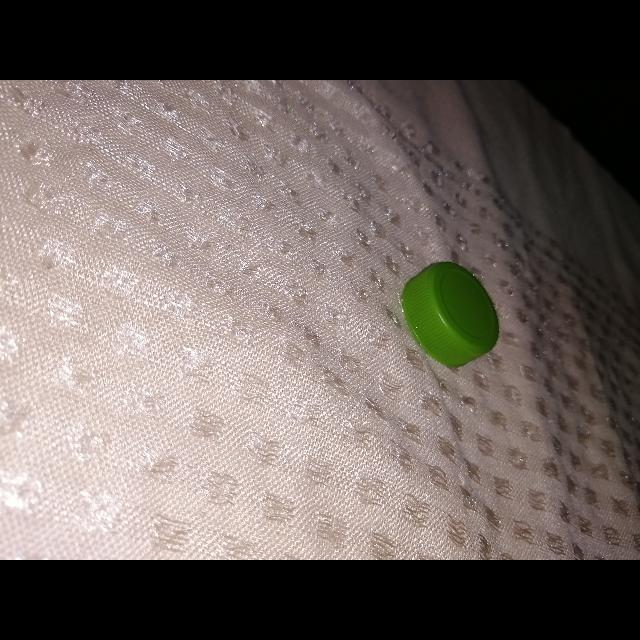plastic_bottle_cap: (402, 260, 500, 366)
